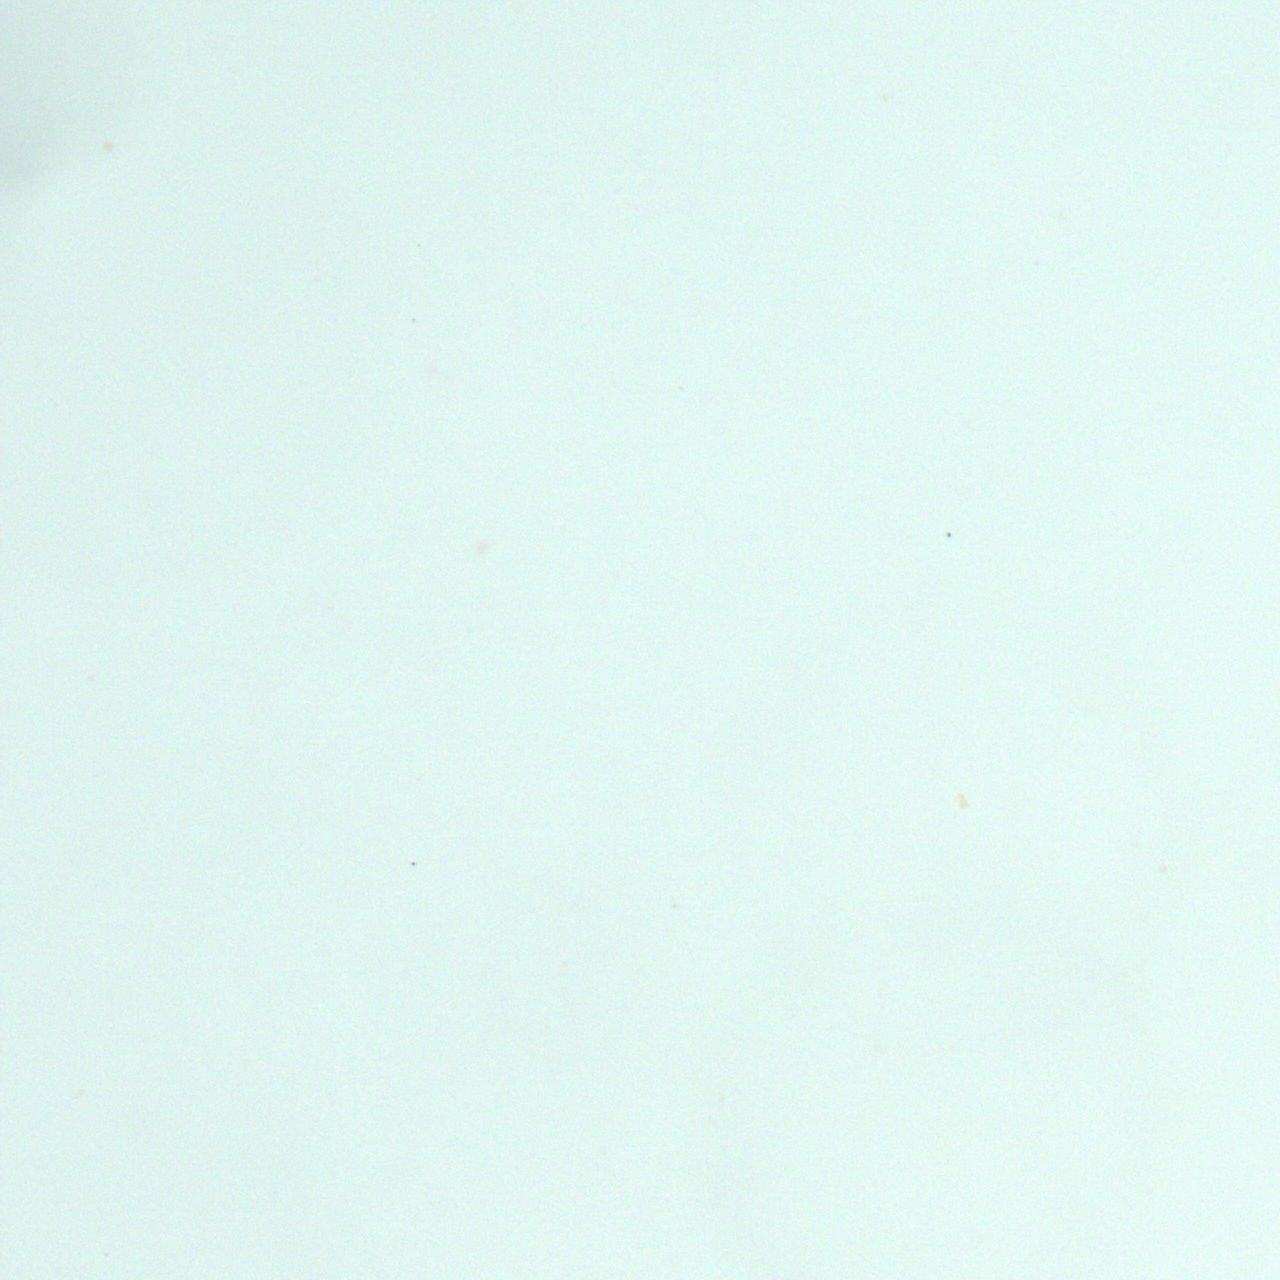dust: (945, 530, 957, 539), (410, 860, 416, 867)
